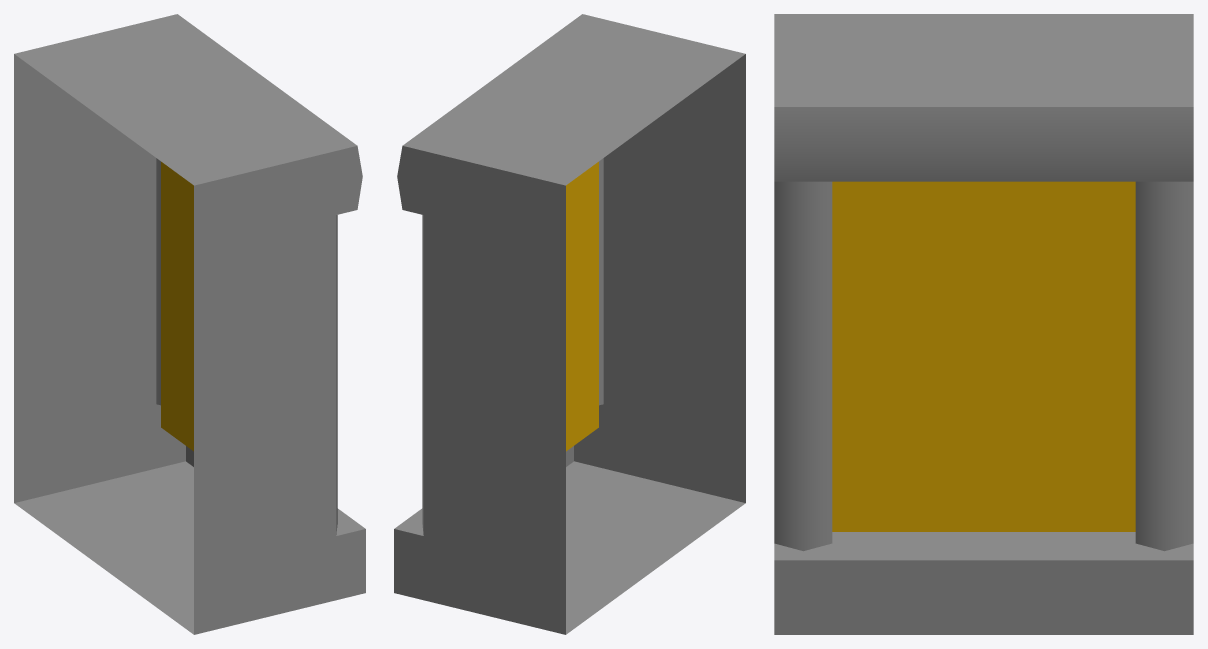
File: Window1.fbx
3 views of the same model, side by side, from view 1: azimuth 30°, elevation 25°; view 2: azimuth 150°, elevation 25°; view 3: azimuth 270°, elevation 25° (orthographic). The views are drawn at different scales.
Parts seen in each view (by area): view 1: Window1; view 2: Window1; view 3: Window1.
Part boxes in pixels (bbox=[...]): Window1: bbox=[14, 14, 365, 634]; Window1: bbox=[394, 14, 745, 634]; Window1: bbox=[774, 14, 1193, 634].
Bounding box in the file's own units: 0.6307 × 1.58 × 1.15.
